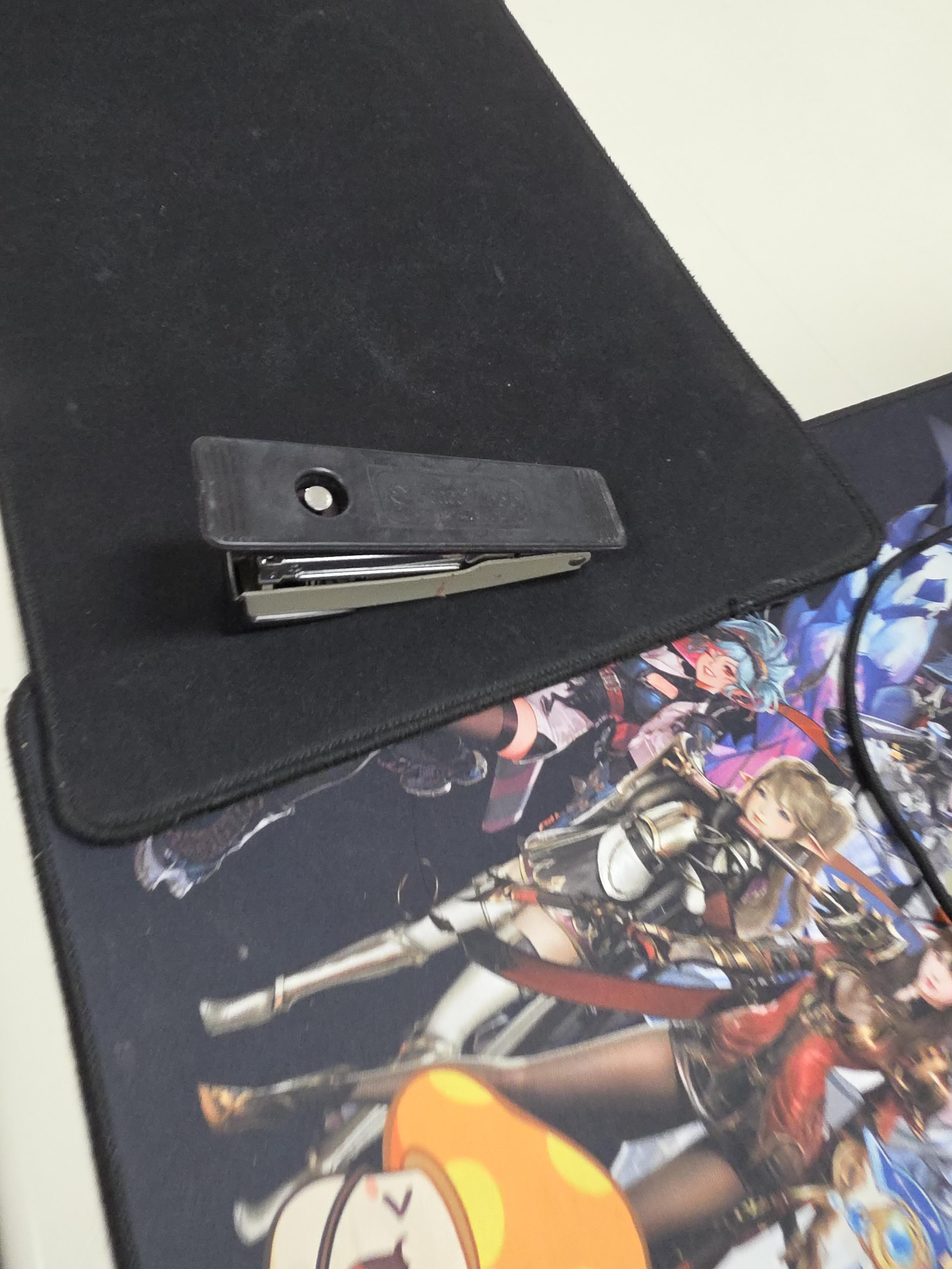stapler: (190, 435, 628, 625)
